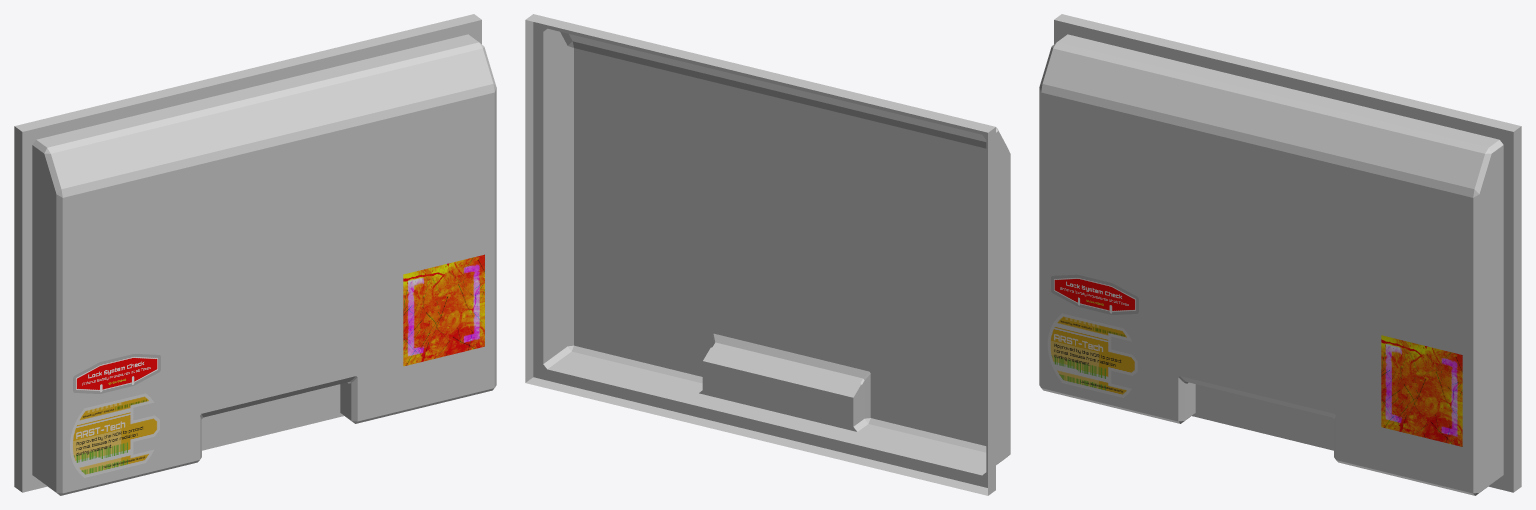
The model's file is prop_07.fbx.
The picture shows the model from 3 angles, left to right: view 1: azimuth 30°, elevation 25°; view 2: azimuth 150°, elevation 25°; view 3: azimuth 330°, elevation 25°; orthographic projection.
Visible parts, largest first — view 1: Cube.318, Cube.319, Cube.322, Cube.320, Cube.321; view 2: Cube.318, Cube.319; view 3: Cube.318, Cube.319, Cube.322, Cube.320, Cube.321.
Boxes of the visible parts, bbox=[...] form: Cube.318: bbox=[32, 34, 496, 495]; Cube.319: bbox=[14, 14, 481, 492]; Cube.322: bbox=[403, 254, 484, 366]; Cube.320: bbox=[70, 393, 159, 477]; Cube.321: bbox=[73, 354, 160, 393]; Cube.318: bbox=[543, 28, 1010, 475]; Cube.319: bbox=[525, 14, 995, 495]; Cube.318: bbox=[1039, 34, 1503, 495]; Cube.319: bbox=[1054, 14, 1521, 492]; Cube.322: bbox=[1381, 335, 1462, 446]; Cube.320: bbox=[1047, 313, 1137, 397]; Cube.321: bbox=[1051, 274, 1138, 314].
Bounding box in the file's own units: 1 × 0.75 × 0.131.
